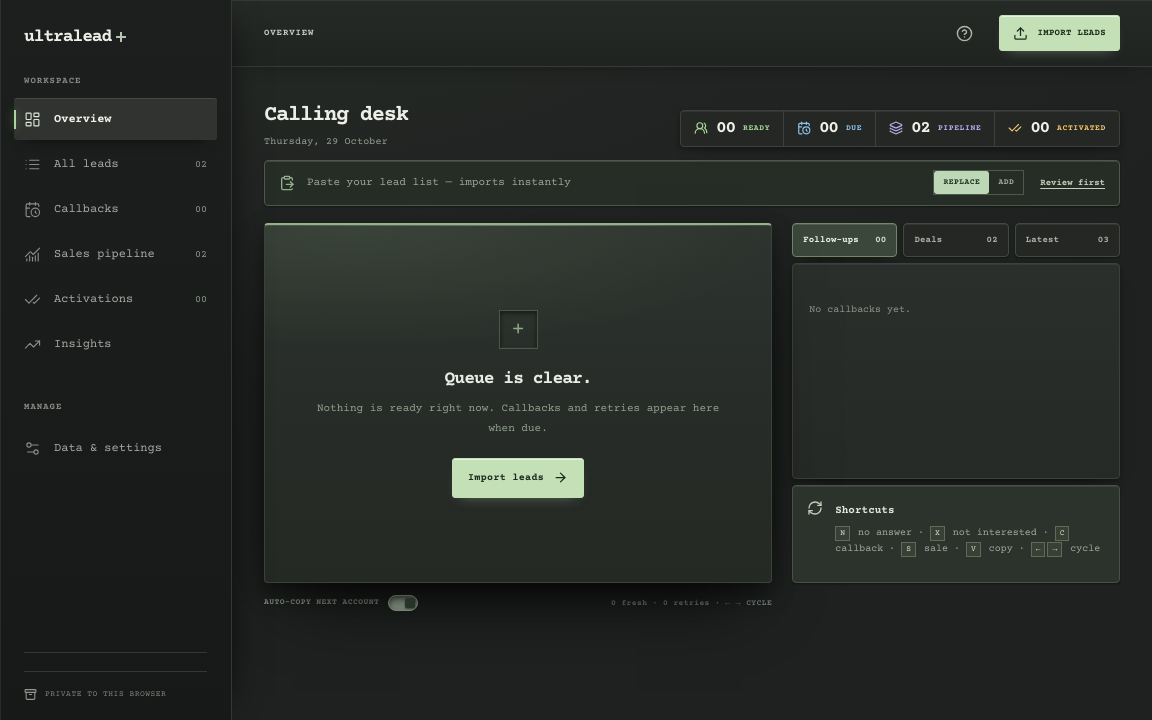
it: calling workflow › shows no activation type for sales still in vetting or confirmation
Click the button "Sales pipeline 02": click(116, 254) [14,233,217,275]
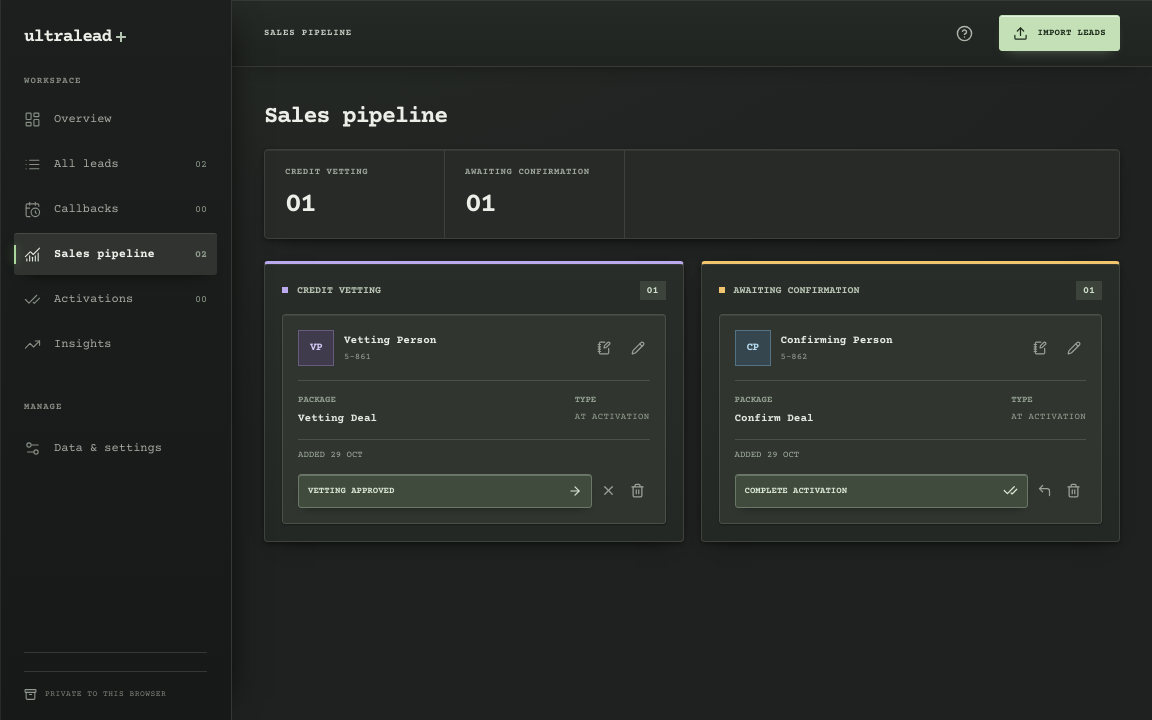
Result: the text "AT ACTIVATION" is shown 2 times at [575,412,650,422]; [1011,412,1086,422]
